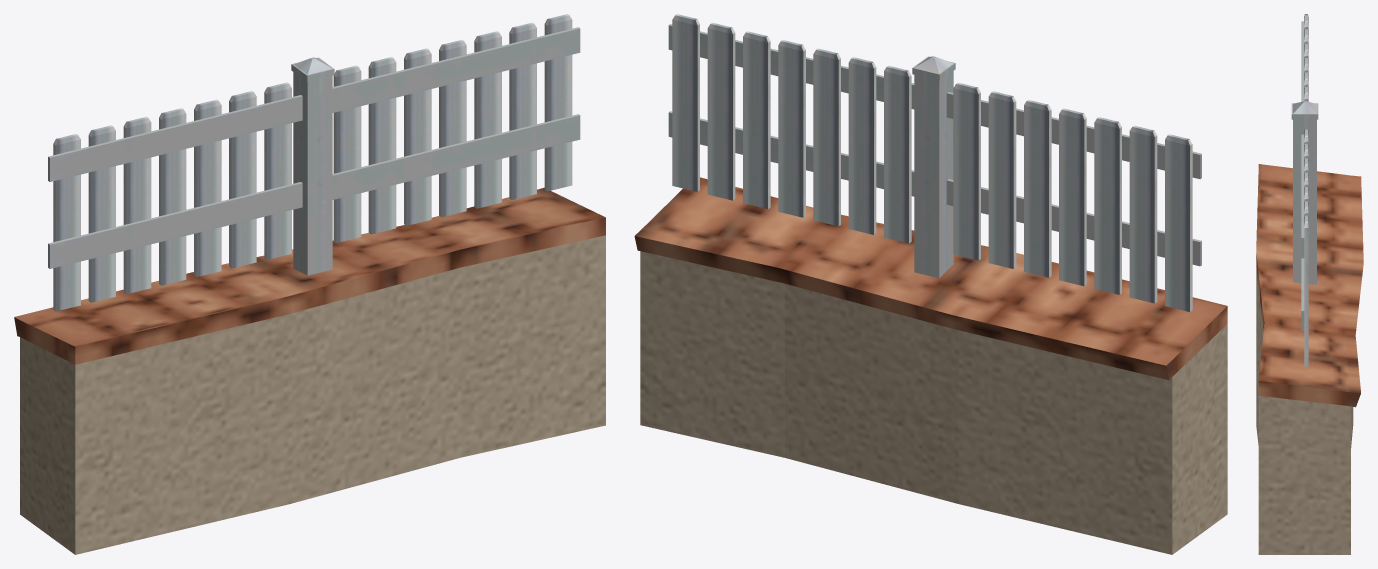
The model's file is Urban_PlasterWallFenced_Model.fbx.
The picture shows the model from 3 angles, left to right: view 1: azimuth 30°, elevation 25°; view 2: azimuth 150°, elevation 25°; view 3: azimuth 270°, elevation 25°; orthographic projection. The views are drawn at different scales.
Visible parts, largest first — view 1: Urban_PlasterWallFenced_Mesh; view 2: Urban_PlasterWallFenced_Mesh; view 3: Urban_PlasterWallFenced_Mesh.
Boxes of the visible parts, x1=… form: Urban_PlasterWallFenced_Mesh: x1=14, y1=14, x2=605, y2=554; Urban_PlasterWallFenced_Mesh: x1=634, y1=14, x2=1227, y2=554; Urban_PlasterWallFenced_Mesh: x1=1256, y1=14, x2=1363, y2=554.
Bounding box in the file's own units: 2 × 1.48 × 0.4196.
